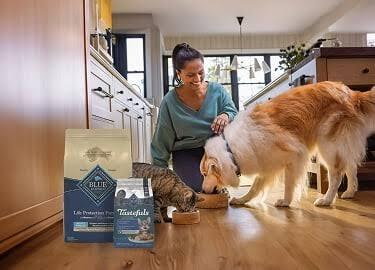adult_dog: (200, 83, 375, 210)
non-dog: (133, 163, 200, 215)
